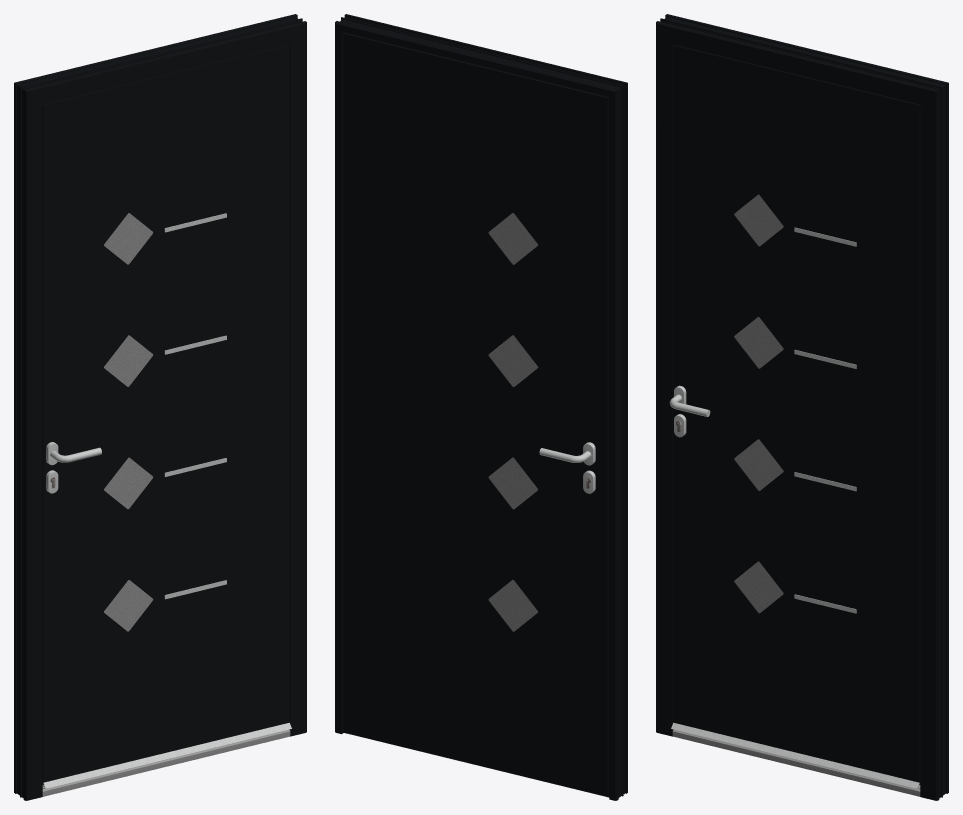
The picture shows the model from 3 angles, left to right: view 1: azimuth 30°, elevation 25°; view 2: azimuth 150°, elevation 25°; view 3: azimuth 330°, elevation 25°; orthographic projection.
Parts seen in each view (by area): view 1: bloco_33, aroFixo, Plane001, aroMovel, rodapé, escovas, alunox_20, puxador001; view 2: bloco_33, aroFixo, Plane002, aroMovel, puxador; view 3: bloco_33, aroFixo, Plane001, aroMovel, rodapé, escovas, alunox_20, puxador001.
Part boxes in pixels (x1=…): bloco_33: x1=44, y1=46, x2=289, y2=782; aroFixo: x1=14, y1=14, x2=306, y2=800; Plane001: x1=104, y1=213, x2=153, y2=631; aroMovel: x1=42, y1=44, x2=289, y2=784; rodapé: x1=42, y1=729, x2=290, y2=796; escovas: x1=42, y1=722, x2=291, y2=788; alunox_20: x1=164, y1=213, x2=226, y2=599; puxador001: x1=46, y1=442, x2=101, y2=493; bloco_33: x1=344, y1=34, x2=607, y2=796; aroFixo: x1=335, y1=14, x2=627, y2=800; Plane002: x1=488, y1=213, x2=538, y2=631; aroMovel: x1=343, y1=32, x2=609, y2=796; puxador: x1=539, y1=442, x2=595, y2=493; bloco_33: x1=673, y1=46, x2=918, y2=782; aroFixo: x1=656, y1=14, x2=948, y2=800; Plane001: x1=734, y1=194, x2=783, y2=613; aroMovel: x1=673, y1=44, x2=920, y2=784; rodapé: x1=672, y1=729, x2=920, y2=796; escovas: x1=671, y1=722, x2=920, y2=788; alunox_20: x1=794, y1=227, x2=856, y2=613; puxador001: x1=669, y1=385, x2=710, y2=437.
Size of the model in its own units: 900 by 2165 by 209.
7 materials, 3 textured.
